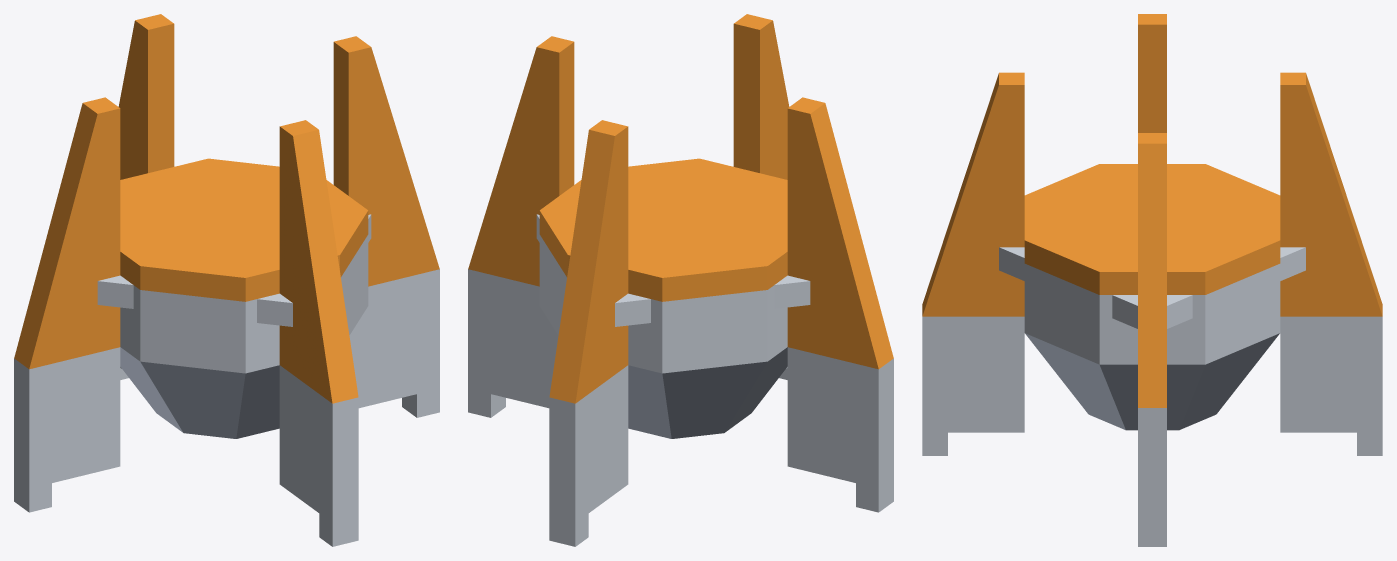
File: cohete_base.obj
3 views of the same model, side by side, from view 1: azimuth 30°, elevation 25°; view 2: azimuth 150°, elevation 25°; view 3: azimuth 270°, elevation 25° (orthographic). The views are drawn at different scales.
Visible parts, largest first — view 1: cohete_base; view 2: cohete_base; view 3: cohete_base.
Boxes of the visible parts, x1,y1,x2,y2 form: cohete_base: (14,14,439,546); cohete_base: (468,14,893,546); cohete_base: (922,14,1382,546).
Size of the model in its own units: 1.8 by 1.6 by 1.8.
